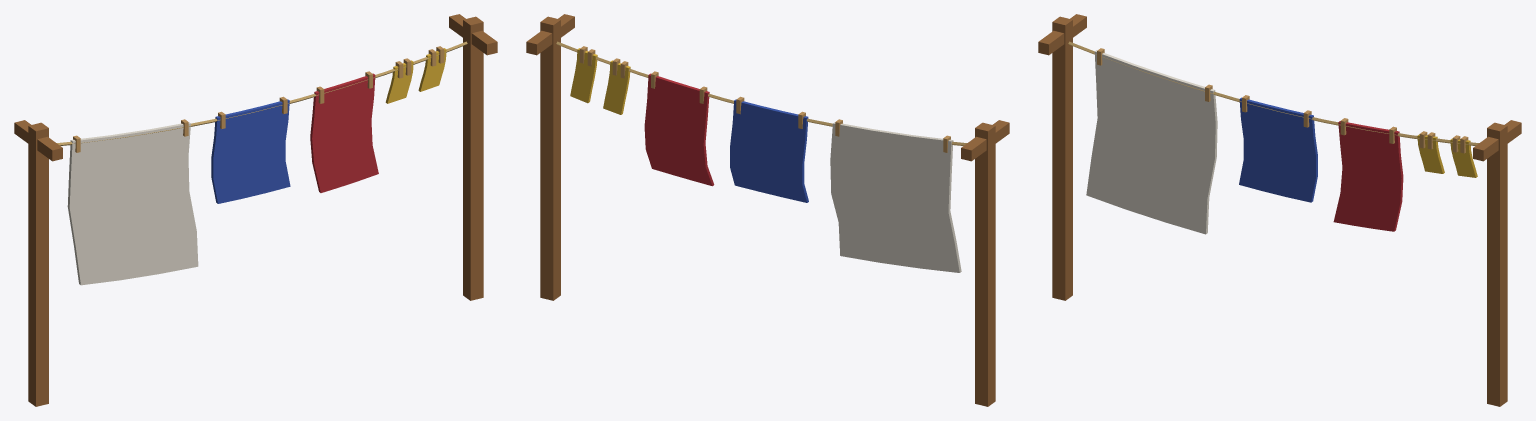
The model's file is pixor-library-washing-line.glb.
The picture shows the model from 3 angles, left to right: view 1: azimuth 30°, elevation 25°; view 2: azimuth 150°, elevation 25°; view 3: azimuth 330°, elevation 25°; orthographic projection.
Visible parts, largest first — view 1: Washing sheet, Washing posts, Washing shirt, Washing towel, Washing pegs, Washing line rope, Washing sock A, Washing sock B; view 2: Washing sheet, Washing posts, Washing shirt, Washing towel, Washing pegs, Washing sock A, Washing sock B, Washing line rope; view 3: Washing sheet, Washing posts, Washing shirt, Washing towel, Washing pegs, Washing line rope, Washing sock B, Washing sock A.
Boxes of the visible parts, x1=… form: Washing sheet: x1=67, y1=122, x2=198, y2=285; Washing posts: x1=14, y1=14, x2=497, y2=406; Washing shirt: x1=211, y1=99, x2=290, y2=203; Washing towel: x1=310, y1=73, x2=378, y2=192; Washing pegs: x1=73, y1=46, x2=444, y2=152; Washing line rope: x1=57, y1=41, x2=467, y2=145; Washing sock A: x1=385, y1=60, x2=413, y2=103; Washing sock B: x1=418, y1=48, x2=446, y2=91; Washing sheet: x1=830, y1=122, x2=961, y2=272; Washing posts: x1=526, y1=14, x2=1009, y2=406; Washing shirt: x1=730, y1=99, x2=808, y2=202; Washing towel: x1=644, y1=73, x2=714, y2=186; Washing pegs: x1=579, y1=46, x2=950, y2=152; Washing sock A: x1=603, y1=60, x2=630, y2=114; Washing sock B: x1=570, y1=48, x2=597, y2=103; Washing line rope: x1=556, y1=41, x2=966, y2=145; Washing sheet: x1=1086, y1=50, x2=1217, y2=234; Washing posts: x1=1038, y1=14, x2=1521, y2=406; Washing shirt: x1=1239, y1=97, x2=1317, y2=202; Washing towel: x1=1333, y1=121, x2=1403, y2=231; Washing pegs: x1=1097, y1=48, x2=1468, y2=153; Washing line rope: x1=1068, y1=41, x2=1478, y2=145; Washing sock B: x1=1450, y1=138, x2=1477, y2=177; Washing sock A: x1=1417, y1=134, x2=1444, y2=173.
Bounding box in the file's own units: 3.4 × 2 × 0.5.
